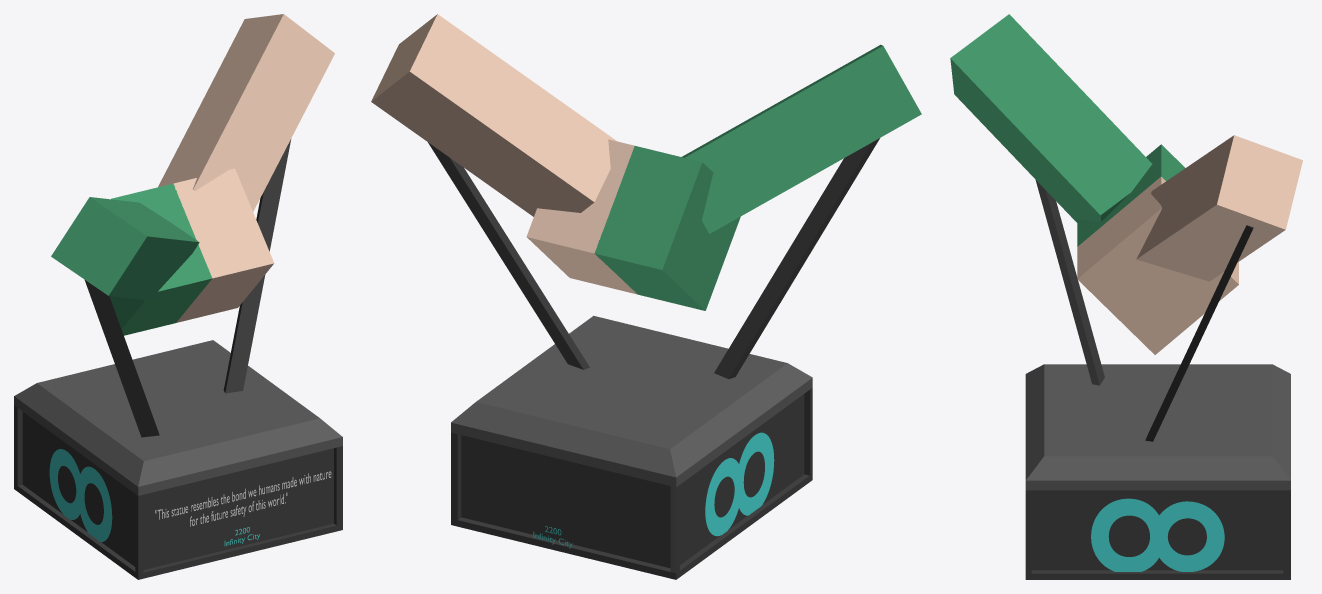
Rendered from Enorm_Standbeeld.fbx.
3 renders of one model, left to right at view 1: azimuth 30°, elevation 25°; view 2: azimuth 150°, elevation 25°; view 3: azimuth 270°, elevation 25°, orthographic. The views are drawn at different scales.
Parts seen in each view (by area): view 1: Plane, Arm, Arm.001, Hand1, Hand2, Cube.001, Cube, Infinity.002, Text; view 2: Plane, Arm, Arm.001, Hand2, Hand1, Cube, Cube.001, Infinity.002; view 3: Plane, Arm.001, Arm, Hand1, Infinity, Cube, Cube.001, Hand2.
Boxes of the visible parts, x1=… form: Plane: x1=14, y1=340, x2=342, y2=579; Arm: x1=158, y1=14, x2=334, y2=211; Arm.001: x1=51, y1=197, x2=199, y2=301; Hand1: x1=173, y1=168, x2=274, y2=322; Hand2: x1=109, y1=183, x2=212, y2=335; Cube.001: x1=223, y1=139, x2=291, y2=393; Cube: x1=84, y1=280, x2=159, y2=437; Infinity.002: x1=49, y1=449, x2=112, y2=542; Text: x1=155, y1=471, x2=331, y2=526; Plane: x1=451, y1=315, x2=812, y2=579; Arm: x1=371, y1=14, x2=616, y2=216; Arm.001: x1=682, y1=44, x2=921, y2=233; Hand2: x1=594, y1=146, x2=740, y2=310; Hand1: x1=526, y1=139, x2=637, y2=294; Cube: x1=714, y1=138, x2=879, y2=379; Cube.001: x1=428, y1=142, x2=589, y2=369; Infinity.002: x1=705, y1=432, x2=774, y2=536; Plane: x1=1025, y1=364, x2=1290, y2=579; Arm.001: x1=950, y1=14, x2=1152, y2=222; Arm: x1=1136, y1=135, x2=1302, y2=281; Hand1: x1=1077, y1=176, x2=1238, y2=354; Infinity: x1=1091, y1=498, x2=1224, y2=571; Cube: x1=1035, y1=179, x2=1104, y2=385; Cube.001: x1=1145, y1=225, x2=1253, y2=441; Hand2: x1=1077, y1=144, x2=1185, y2=246.
Size of the model in its own units: 245 by 269 by 187.
